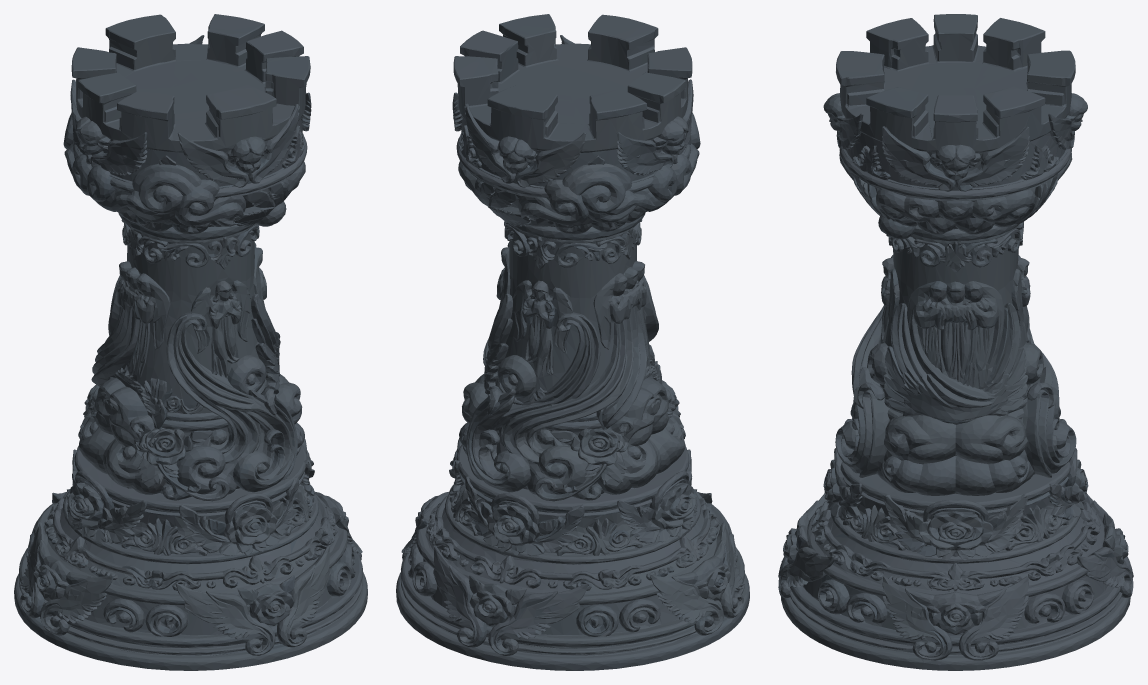
The picture shows the model from 3 angles, left to right: view 1: azimuth 30°, elevation 25°; view 2: azimuth 150°, elevation 25°; view 3: azimuth 270°, elevation 25°; orthographic projection.
Visible parts, largest first — view 1: 3MF Object.005; view 2: 3MF Object.005; view 3: 3MF Object.005.
Part boxes in pixels (x1=…): 3MF Object.005: x1=14, y1=14, x2=367, y2=670; 3MF Object.005: x1=396, y1=14, x2=749, y2=670; 3MF Object.005: x1=778, y1=14, x2=1133, y2=670.
Bounding box in the file's own units: 0.0406 × 0.0668 × 0.0404.
1 material, 1 textured.
